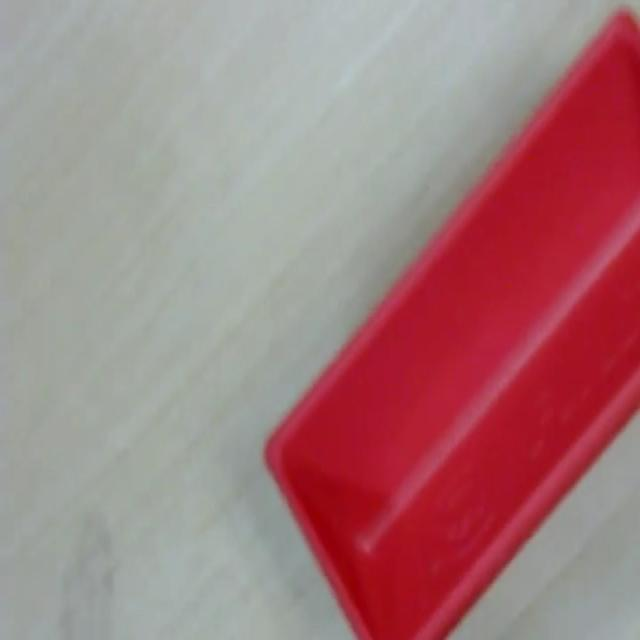red_block: (262, 7, 638, 636)
